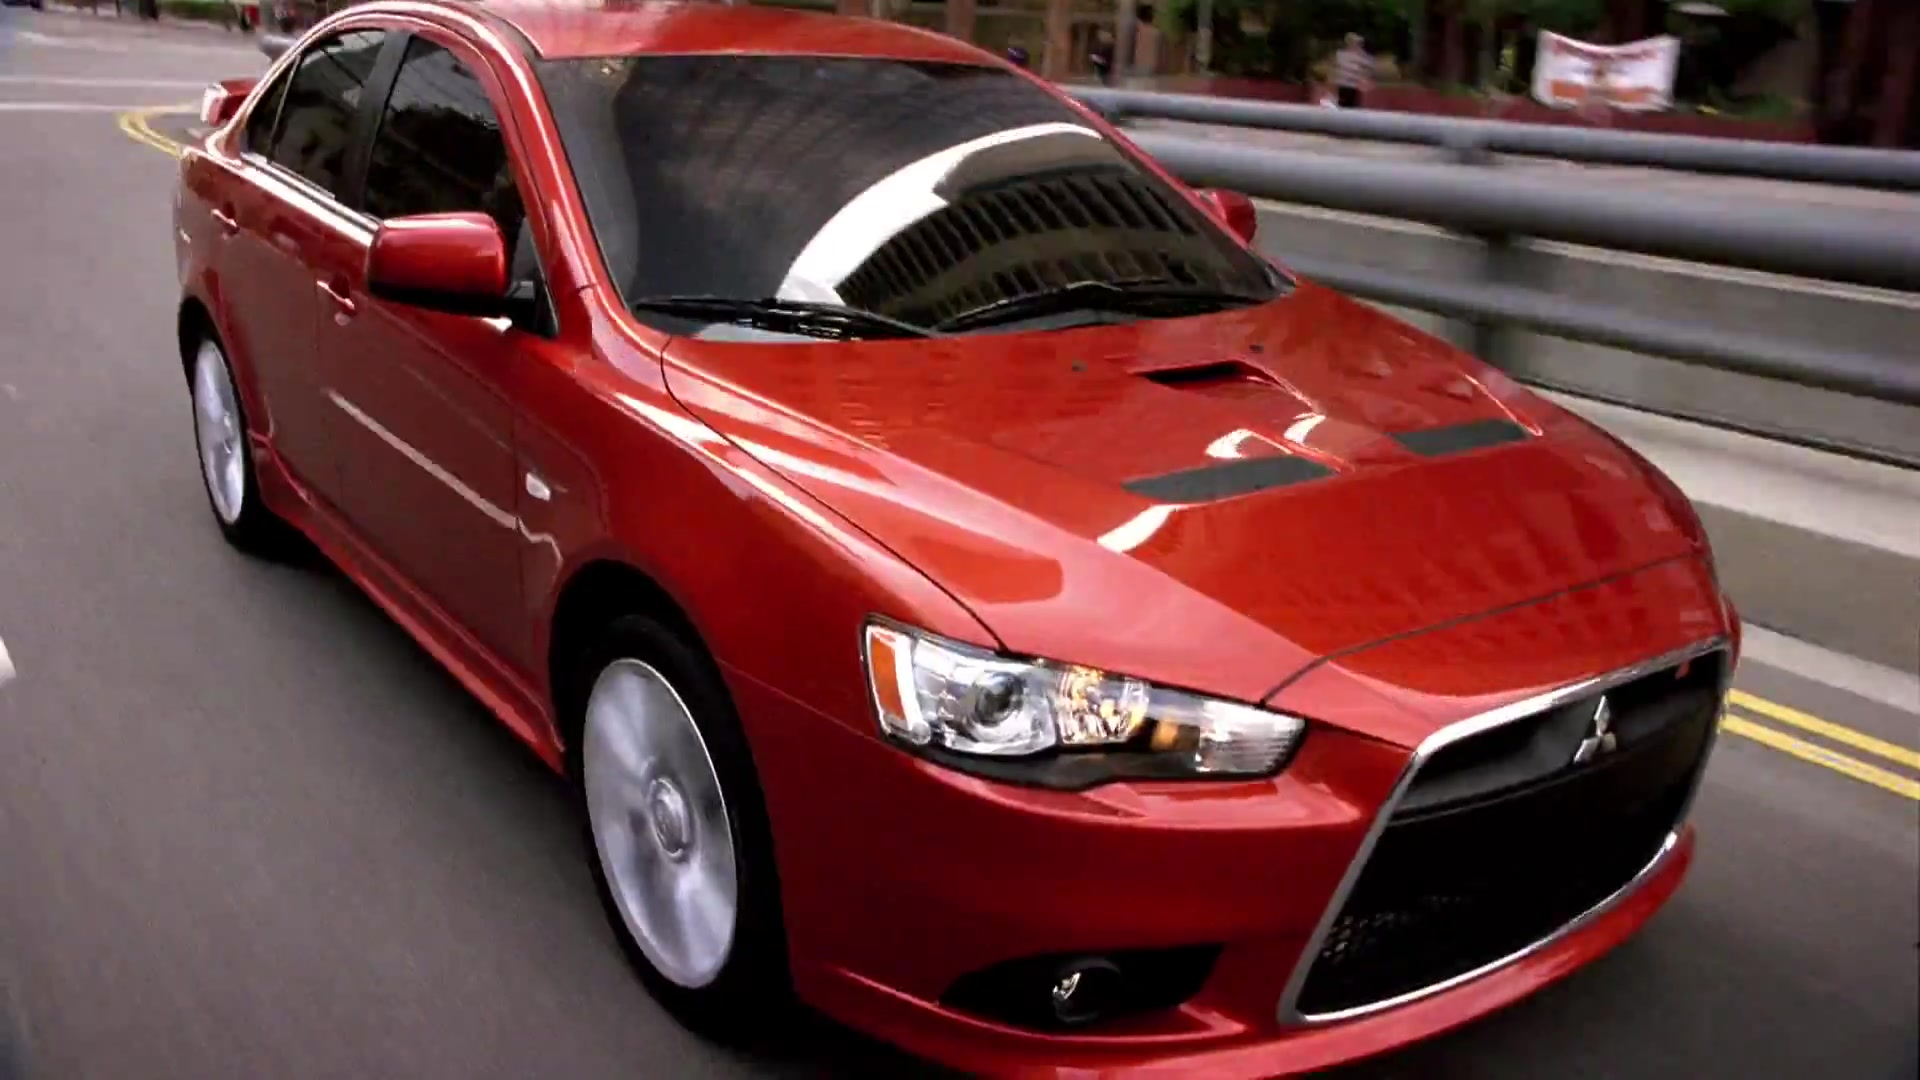car: (169, 3, 1749, 1080)
